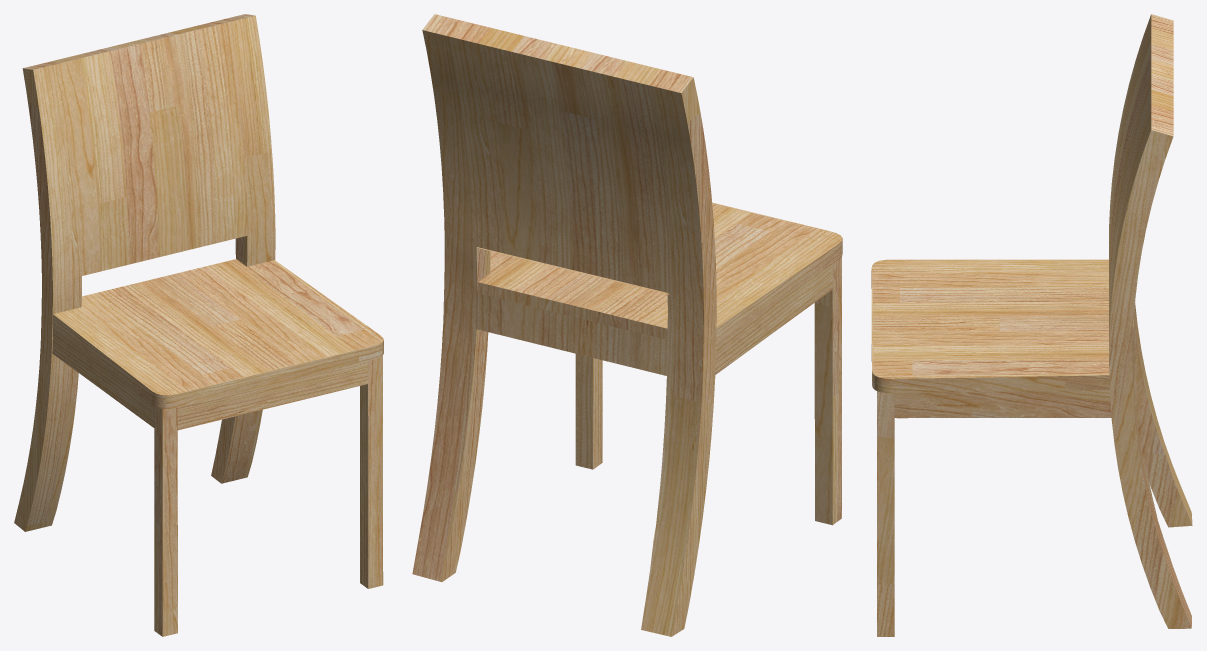
The model's file is curved.fbx.
3 renders of one model, left to right at view 1: azimuth 30°, elevation 25°; view 2: azimuth 150°, elevation 25°; view 3: azimuth 270°, elevation 25°, orthographic. The views are drawn at different scales.
Visible parts, largest first — view 1: curved chair; view 2: curved chair; view 3: curved chair.
Part boxes in pixels (x1,y1,x2,y2): curved chair: (14,14,383,636); curved chair: (412,14,842,636); curved chair: (871,14,1192,636).
Bounding box in the file's own units: 63.21 × 126 × 71.95.
